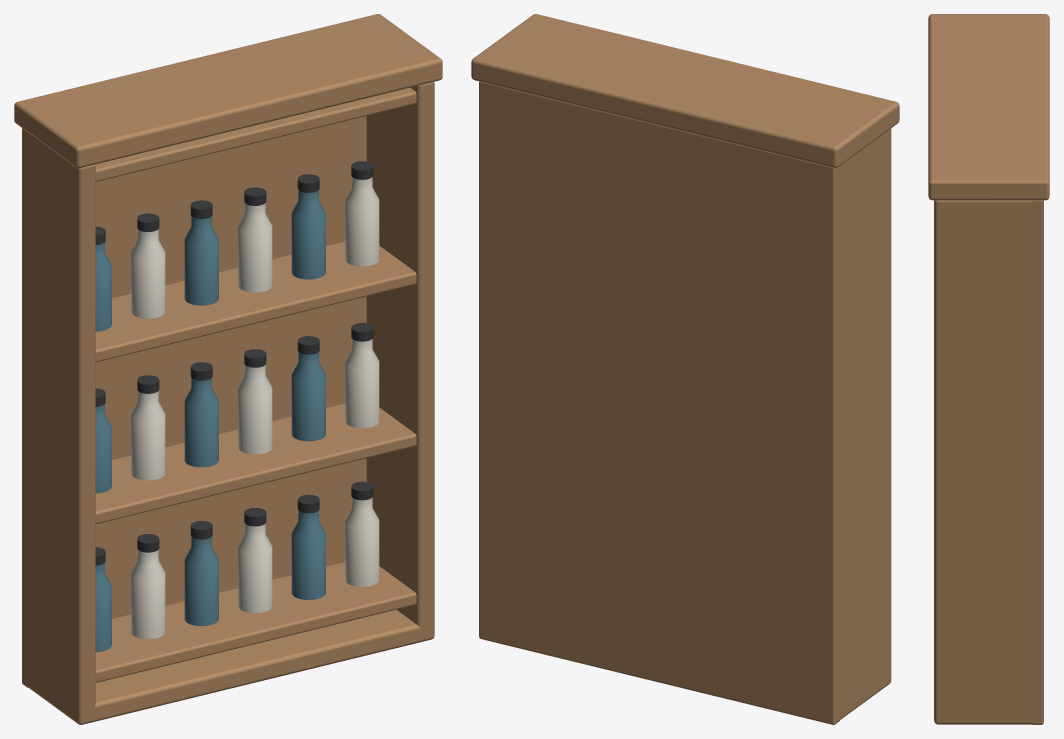
The model's file is barbershop-and-hair-salon-retail-product-display-37939f50__29649.glb.
The picture shows the model from 3 angles, left to right: view 1: azimuth 30°, elevation 25°; view 2: azimuth 150°, elevation 25°; view 3: azimuth 270°, elevation 25°; orthographic projection. The views are drawn at different scales.
Parts seen in each view (by area): view 1: retail-product-display; view 2: retail-product-display; view 3: retail-product-display.
Boxes of the visible parts, left/top/right/bottom form: retail-product-display: left=14, top=14, right=442, bottom=724; retail-product-display: left=471, top=14, right=899, bottom=724; retail-product-display: left=928, top=14, right=1049, bottom=724.
Bounding box in the file's own units: 1.24 × 1.87 × 0.3751.
